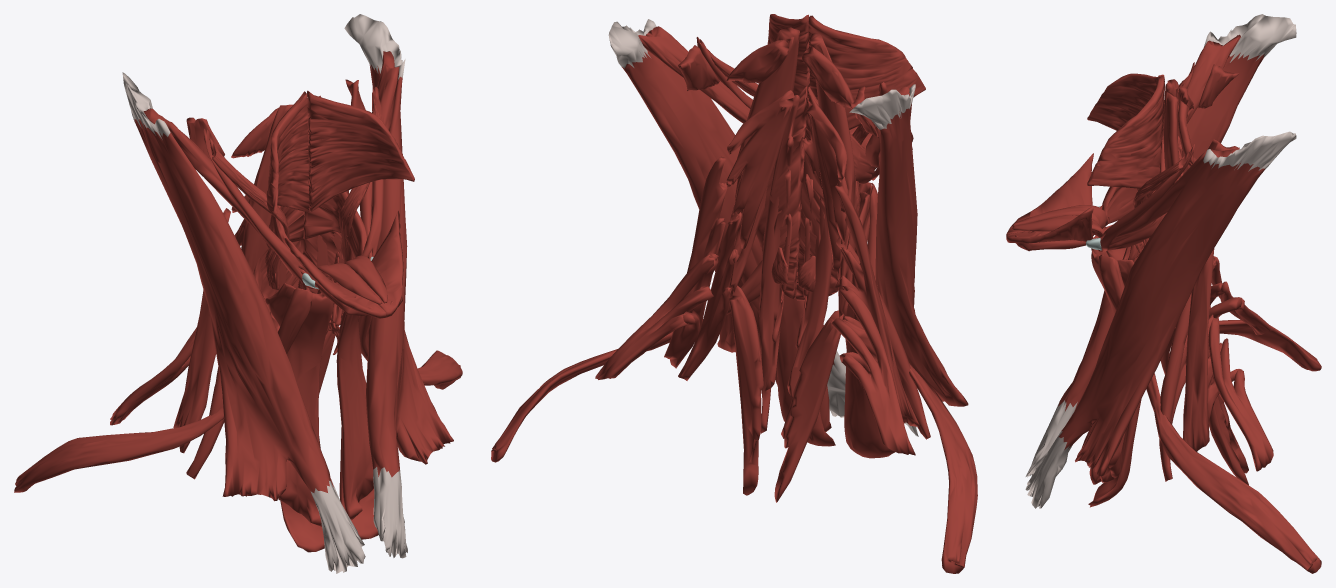
The model's file is muscles-neck.glb.
3 views of the same model, side by side, from view 1: azimuth 30°, elevation 25°; view 2: azimuth 150°, elevation 25°; view 3: azimuth 270°, elevation 25° (orthographic). The views are drawn at different scales.
Parts seen in each view (by area): view 1: muscle-sternocleidomastoid-muscle-r, muscle-sternocleidomastoid-muscle-l, muscle-superior-pharyngeal-constrictor-l, muscle-omohyoid-muscle-r, muscle-sternohyoid-muscle-l, muscle-sternohyoid-muscle-r, muscle-superior-pharyngeal-constrictor-r, muscle-scalenus-medius-muscle-r, muscle-longus-capitis-muscle-r, muscle-mylohyoid-muscle-l, muscle-middle-pharyngeal-constrictor-l, muscle-stylopharyngeus-muscle-r (+20 smaller); view 2: muscle-longus-colli-muscle-l, muscle-longus-colli-muscle-r, muscle-sternocleidomastoid-muscle-r, muscle-sternocleidomastoid-muscle-l, muscle-omohyoid-muscle-r, muscle-superior-pharyngeal-constrictor-r, muscle-scalenus-posterior-muscle-r, muscle-scalenus-medius-muscle-l, muscle-scalenus-medius-muscle-r, muscle-scalenus-posterior-muscle-l, muscle-longus-capitis-muscle-l, muscle-scalenus-anterior-muscle-l (+14 smaller); view 3: muscle-sternocleidomastoid-muscle-l, muscle-sternocleidomastoid-muscle-r, muscle-omohyoid-muscle-l, muscle-superior-pharyngeal-constrictor-l, muscle-scalenus-medius-muscle-l, muscle-scalenus-posterior-muscle-l, muscle-superior-pharyngeal-constrictor-r, muscle-scalenus-anterior-muscle-l, muscle-omohyoid-muscle-r, muscle-mylohyoid-muscle-r, muscle-posterior-belly-of-digastric-muscle-r, muscle-mylohyoid-muscle-l (+17 smaller).
Boxes of the visible parts, box(x1,y1,x2,y2) form: muscle-sternocleidomastoid-muscle-r: box(122, 72, 365, 573); muscle-sternocleidomastoid-muscle-l: box(344, 14, 453, 558); muscle-superior-pharyngeal-constrictor-l: box(307, 90, 414, 211); muscle-omohyoid-muscle-r: box(14, 287, 312, 492); muscle-sternohyoid-muscle-l: box(336, 314, 373, 519); muscle-sternohyoid-muscle-r: box(278, 293, 333, 526); muscle-superior-pharyngeal-constrictor-r: box(266, 91, 309, 215); muscle-scalenus-medius-muscle-r: box(173, 208, 230, 453); muscle-longus-capitis-muscle-r: box(236, 104, 292, 273); muscle-mylohyoid-muscle-l: box(359, 210, 403, 317); muscle-middle-pharyngeal-constrictor-l: box(303, 158, 367, 257); muscle-stylopharyngeus-muscle-r: box(209, 138, 289, 290); muscle-longus-colli-muscle-l: box(726, 90, 799, 495); muscle-longus-colli-muscle-r: box(774, 95, 848, 502); muscle-sternocleidomastoid-muscle-r: box(849, 84, 968, 436); muscle-sternocleidomastoid-muscle-l: box(608, 19, 845, 417); muscle-omohyoid-muscle-r: box(867, 183, 977, 573); muscle-superior-pharyngeal-constrictor-r: box(808, 15, 925, 129); muscle-scalenus-posterior-muscle-r: box(831, 286, 915, 455); muscle-scalenus-medius-muscle-l: box(664, 156, 727, 368); muscle-scalenus-medius-muscle-r: box(835, 185, 919, 426); muscle-scalenus-posterior-muscle-l: box(595, 254, 718, 379); muscle-longus-capitis-muscle-l: box(726, 27, 799, 292); muscle-scalenus-anterior-muscle-l: box(678, 212, 741, 380); muscle-sternocleidomastoid-muscle-l: box(1025, 131, 1296, 508); muscle-sternocleidomastoid-muscle-r: box(1025, 14, 1296, 477); muscle-omohyoid-muscle-l: box(1098, 254, 1321, 573); muscle-superior-pharyngeal-constrictor-l: box(1087, 76, 1164, 188); muscle-scalenus-medius-muscle-l: box(1183, 248, 1241, 451); muscle-scalenus-posterior-muscle-l: box(1208, 315, 1273, 471); muscle-superior-pharyngeal-constrictor-r: box(1087, 73, 1164, 130); muscle-scalenus-anterior-muscle-l: box(1159, 293, 1191, 481); muscle-omohyoid-muscle-r: box(1102, 224, 1321, 371); muscle-mylohyoid-muscle-r: box(1006, 153, 1093, 235); muscle-posterior-belly-of-digastric-muscle-r: box(1100, 34, 1240, 208); muscle-mylohyoid-muscle-l: box(1006, 206, 1093, 243).
Bounding box in the file's own units: 0.2063 × 0.1932 × 0.1322.
